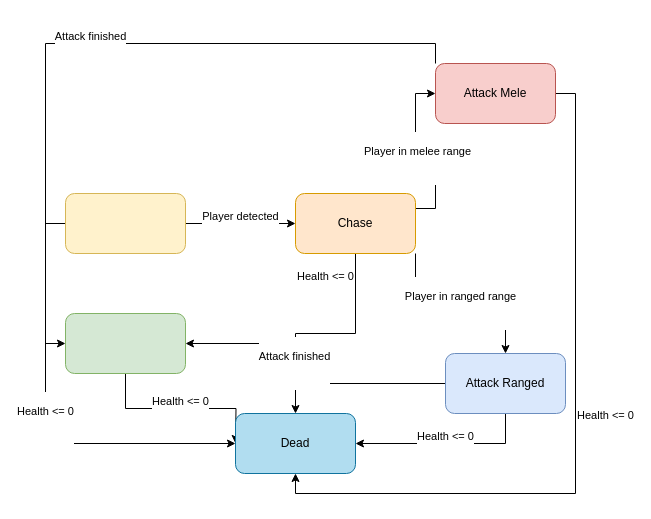
The diagram is 651 pixels wide and 519 high, and some of its shapes have lost their labels. Each missing label, with the box of its shape:
Patrol: (64, 192, 186, 254)
Rest: (64, 312, 186, 374)
